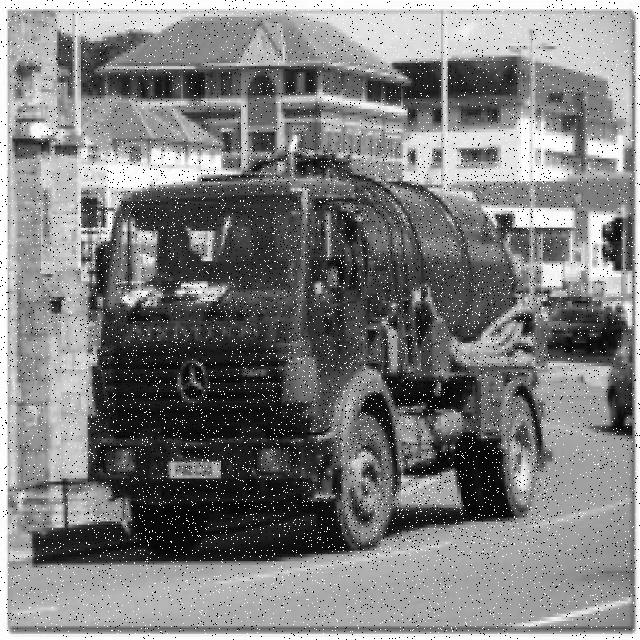Box Truck: (85, 147, 551, 556)
